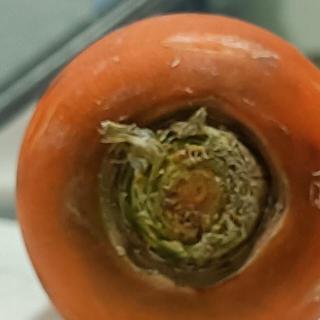carrot: (13, 8, 320, 320)
